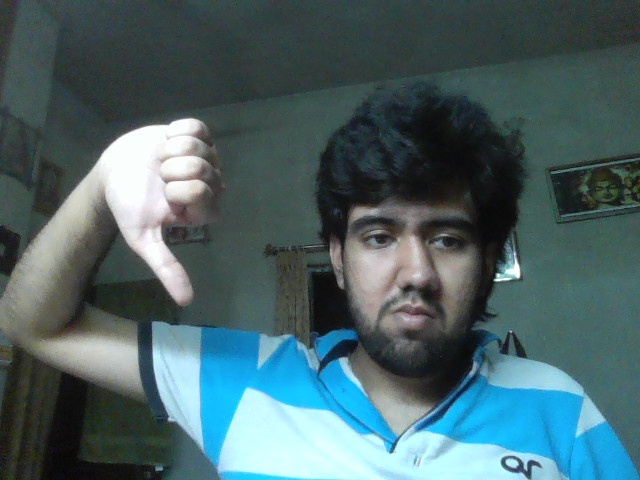NotOk: (108, 119, 223, 307)
